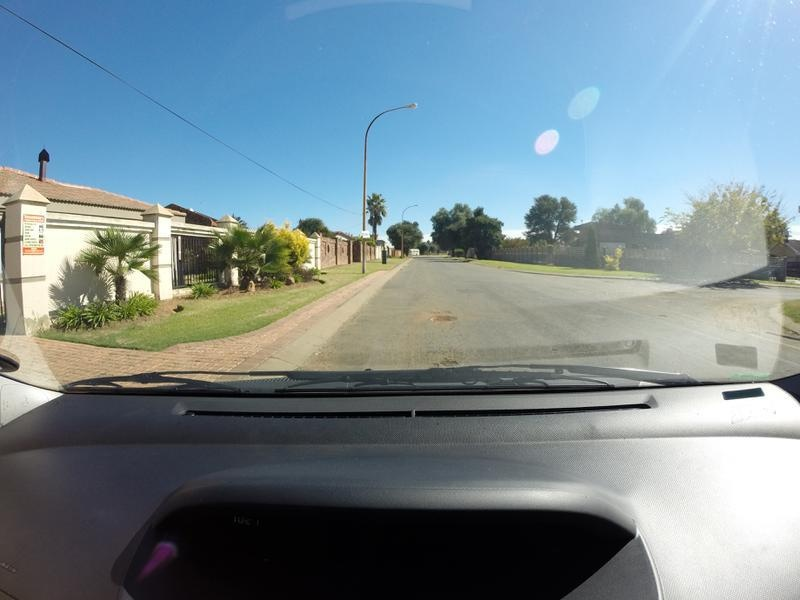pothole: (431, 308, 461, 321), (440, 355, 462, 362)
